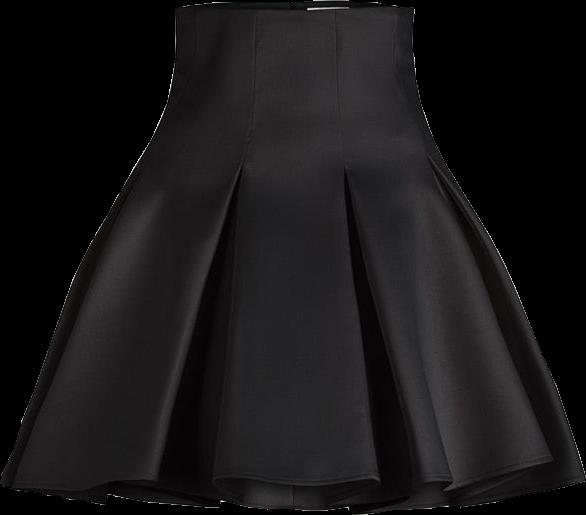Hemline: (0, 456, 585, 513)
Waistline: (175, 1, 416, 12)
